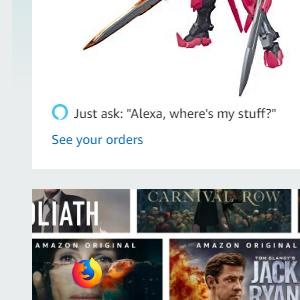firefox: (72, 257, 101, 288)
